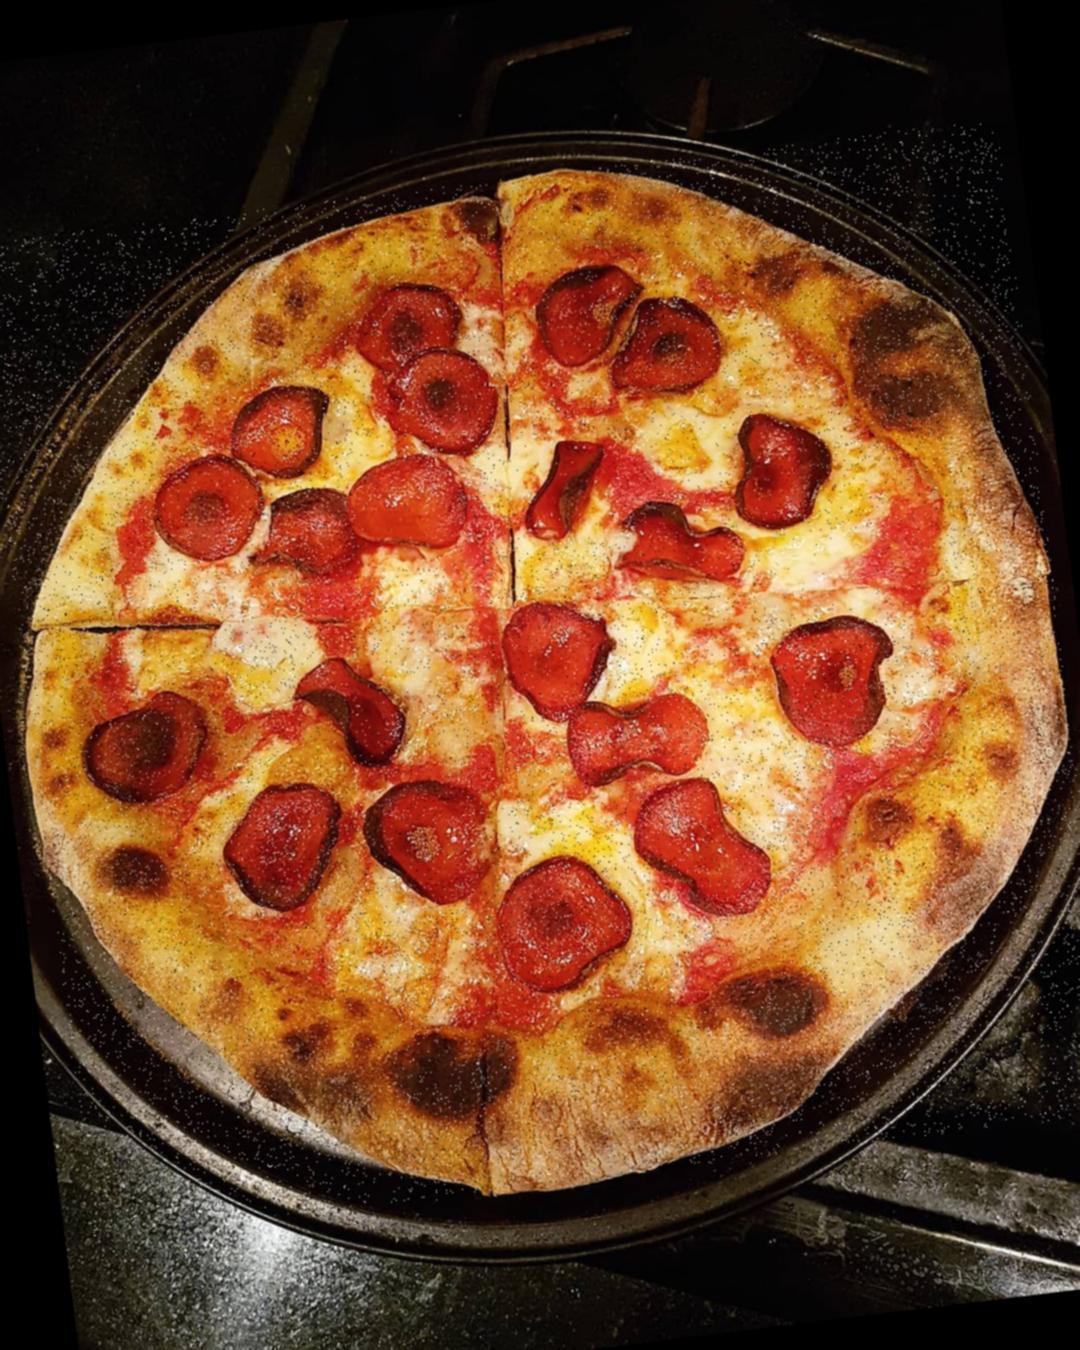Cheese: (371, 577, 504, 763), (130, 557, 295, 673), (615, 583, 771, 665), (620, 390, 738, 488), (758, 525, 877, 616), (692, 668, 782, 766)
Pepperoni: (635, 771, 764, 917), (363, 766, 498, 903), (76, 685, 212, 821), (213, 782, 350, 911), (489, 851, 624, 982), (766, 607, 889, 747), (593, 281, 732, 403), (855, 455, 955, 618), (490, 597, 618, 723), (348, 449, 476, 573), (600, 477, 732, 592), (381, 348, 511, 463), (523, 252, 644, 374), (147, 446, 263, 571), (347, 270, 468, 384), (728, 408, 828, 539), (509, 431, 622, 546), (570, 687, 702, 779), (294, 650, 397, 767), (263, 476, 374, 581), (227, 376, 334, 482)
Pizza: (0, 118, 1080, 1238)
